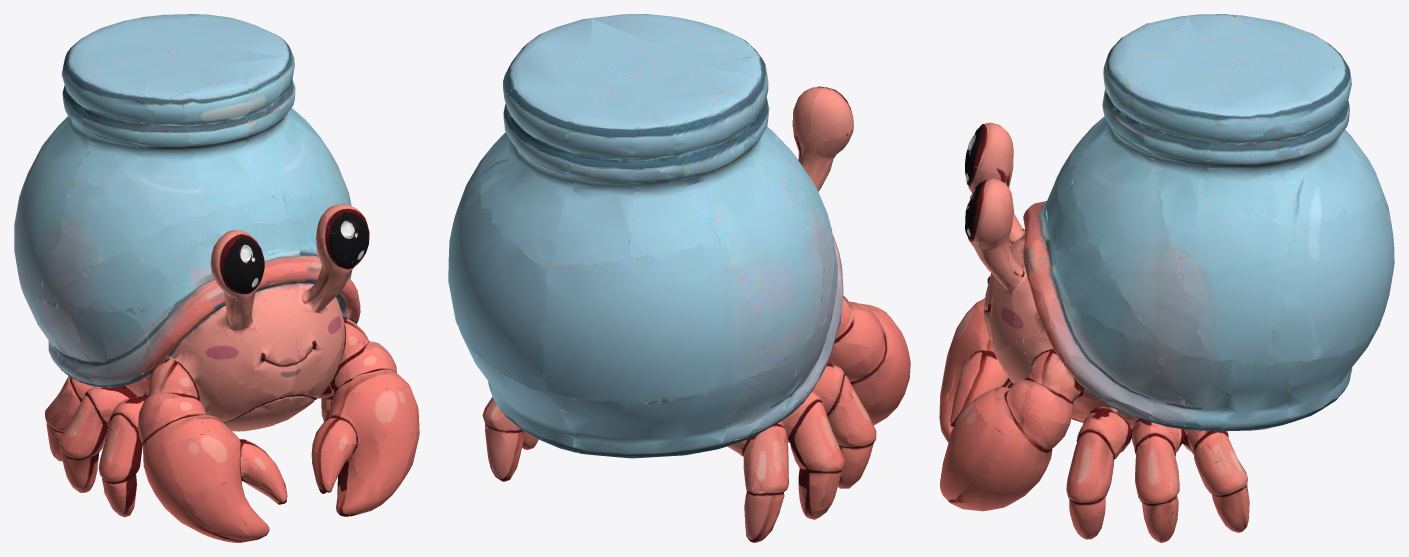
3 views of the same model, side by side, from view 1: azimuth 30°, elevation 25°; view 2: azimuth 150°, elevation 25°; view 3: azimuth 270°, elevation 25° (orthographic). The views are drawn at different scales.
Parts seen in each view (by area): view 1: Mesh_0; view 2: Mesh_0; view 3: Mesh_0.
Boxes of the visible parts, left/top/right/bottom form: Mesh_0: left=14, top=14, right=419, bottom=542; Mesh_0: left=448, top=14, right=910, bottom=542; Mesh_0: left=939, top=14, right=1394, bottom=542.
Size of the model in its own units: 1.52 by 1.9 by 1.87.
1 material, 1 textured.
